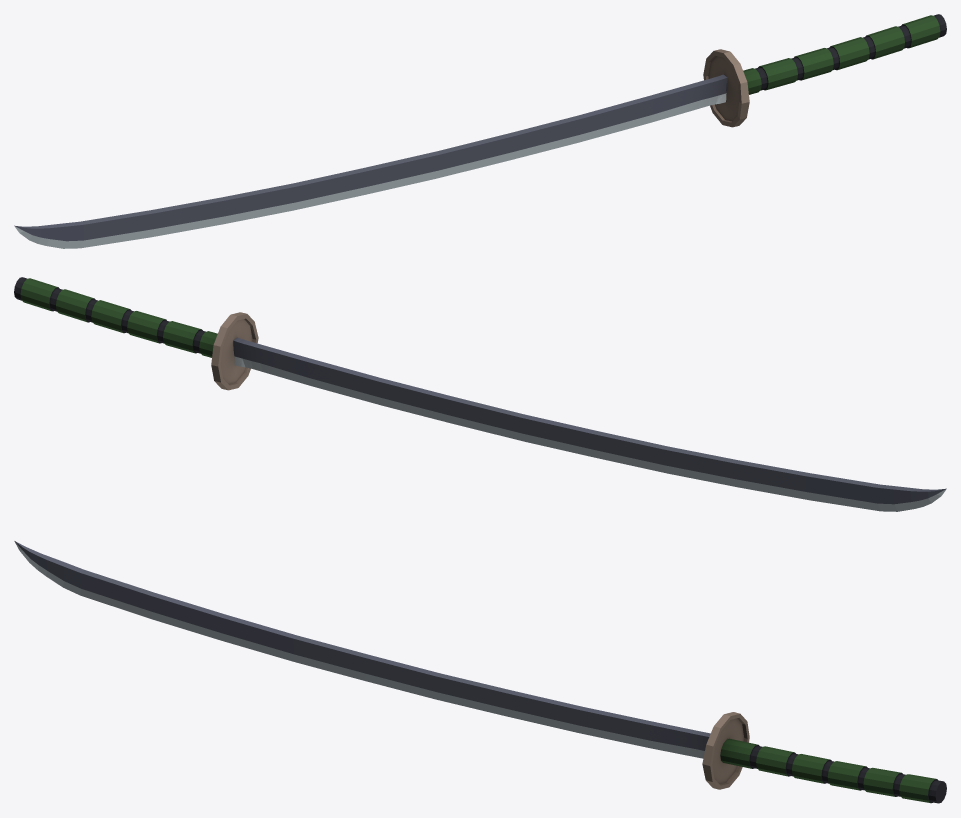
The model's file is low_poly_katana.glb.
3 views of the same model, one above another, from view 1: azimuth 30°, elevation 25°; view 2: azimuth 150°, elevation 25°; view 3: azimuth 330°, elevation 25° (orthographic).
Visible parts, largest first — view 1: Cylinder.001; view 2: Cylinder.001; view 3: Cylinder.001.
Part boxes in pixels (box(x1,y1,x2,y2)): Cylinder.001: box(14, 14, 946, 248); Cylinder.001: box(14, 277, 946, 511); Cylinder.001: box(14, 541, 946, 803).
Size of the model in its own units: 576 by 42.96 by 42.49.
Materials: 1 (1 with a texture image).
